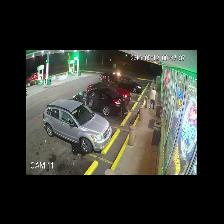person: (149, 88, 156, 109)
